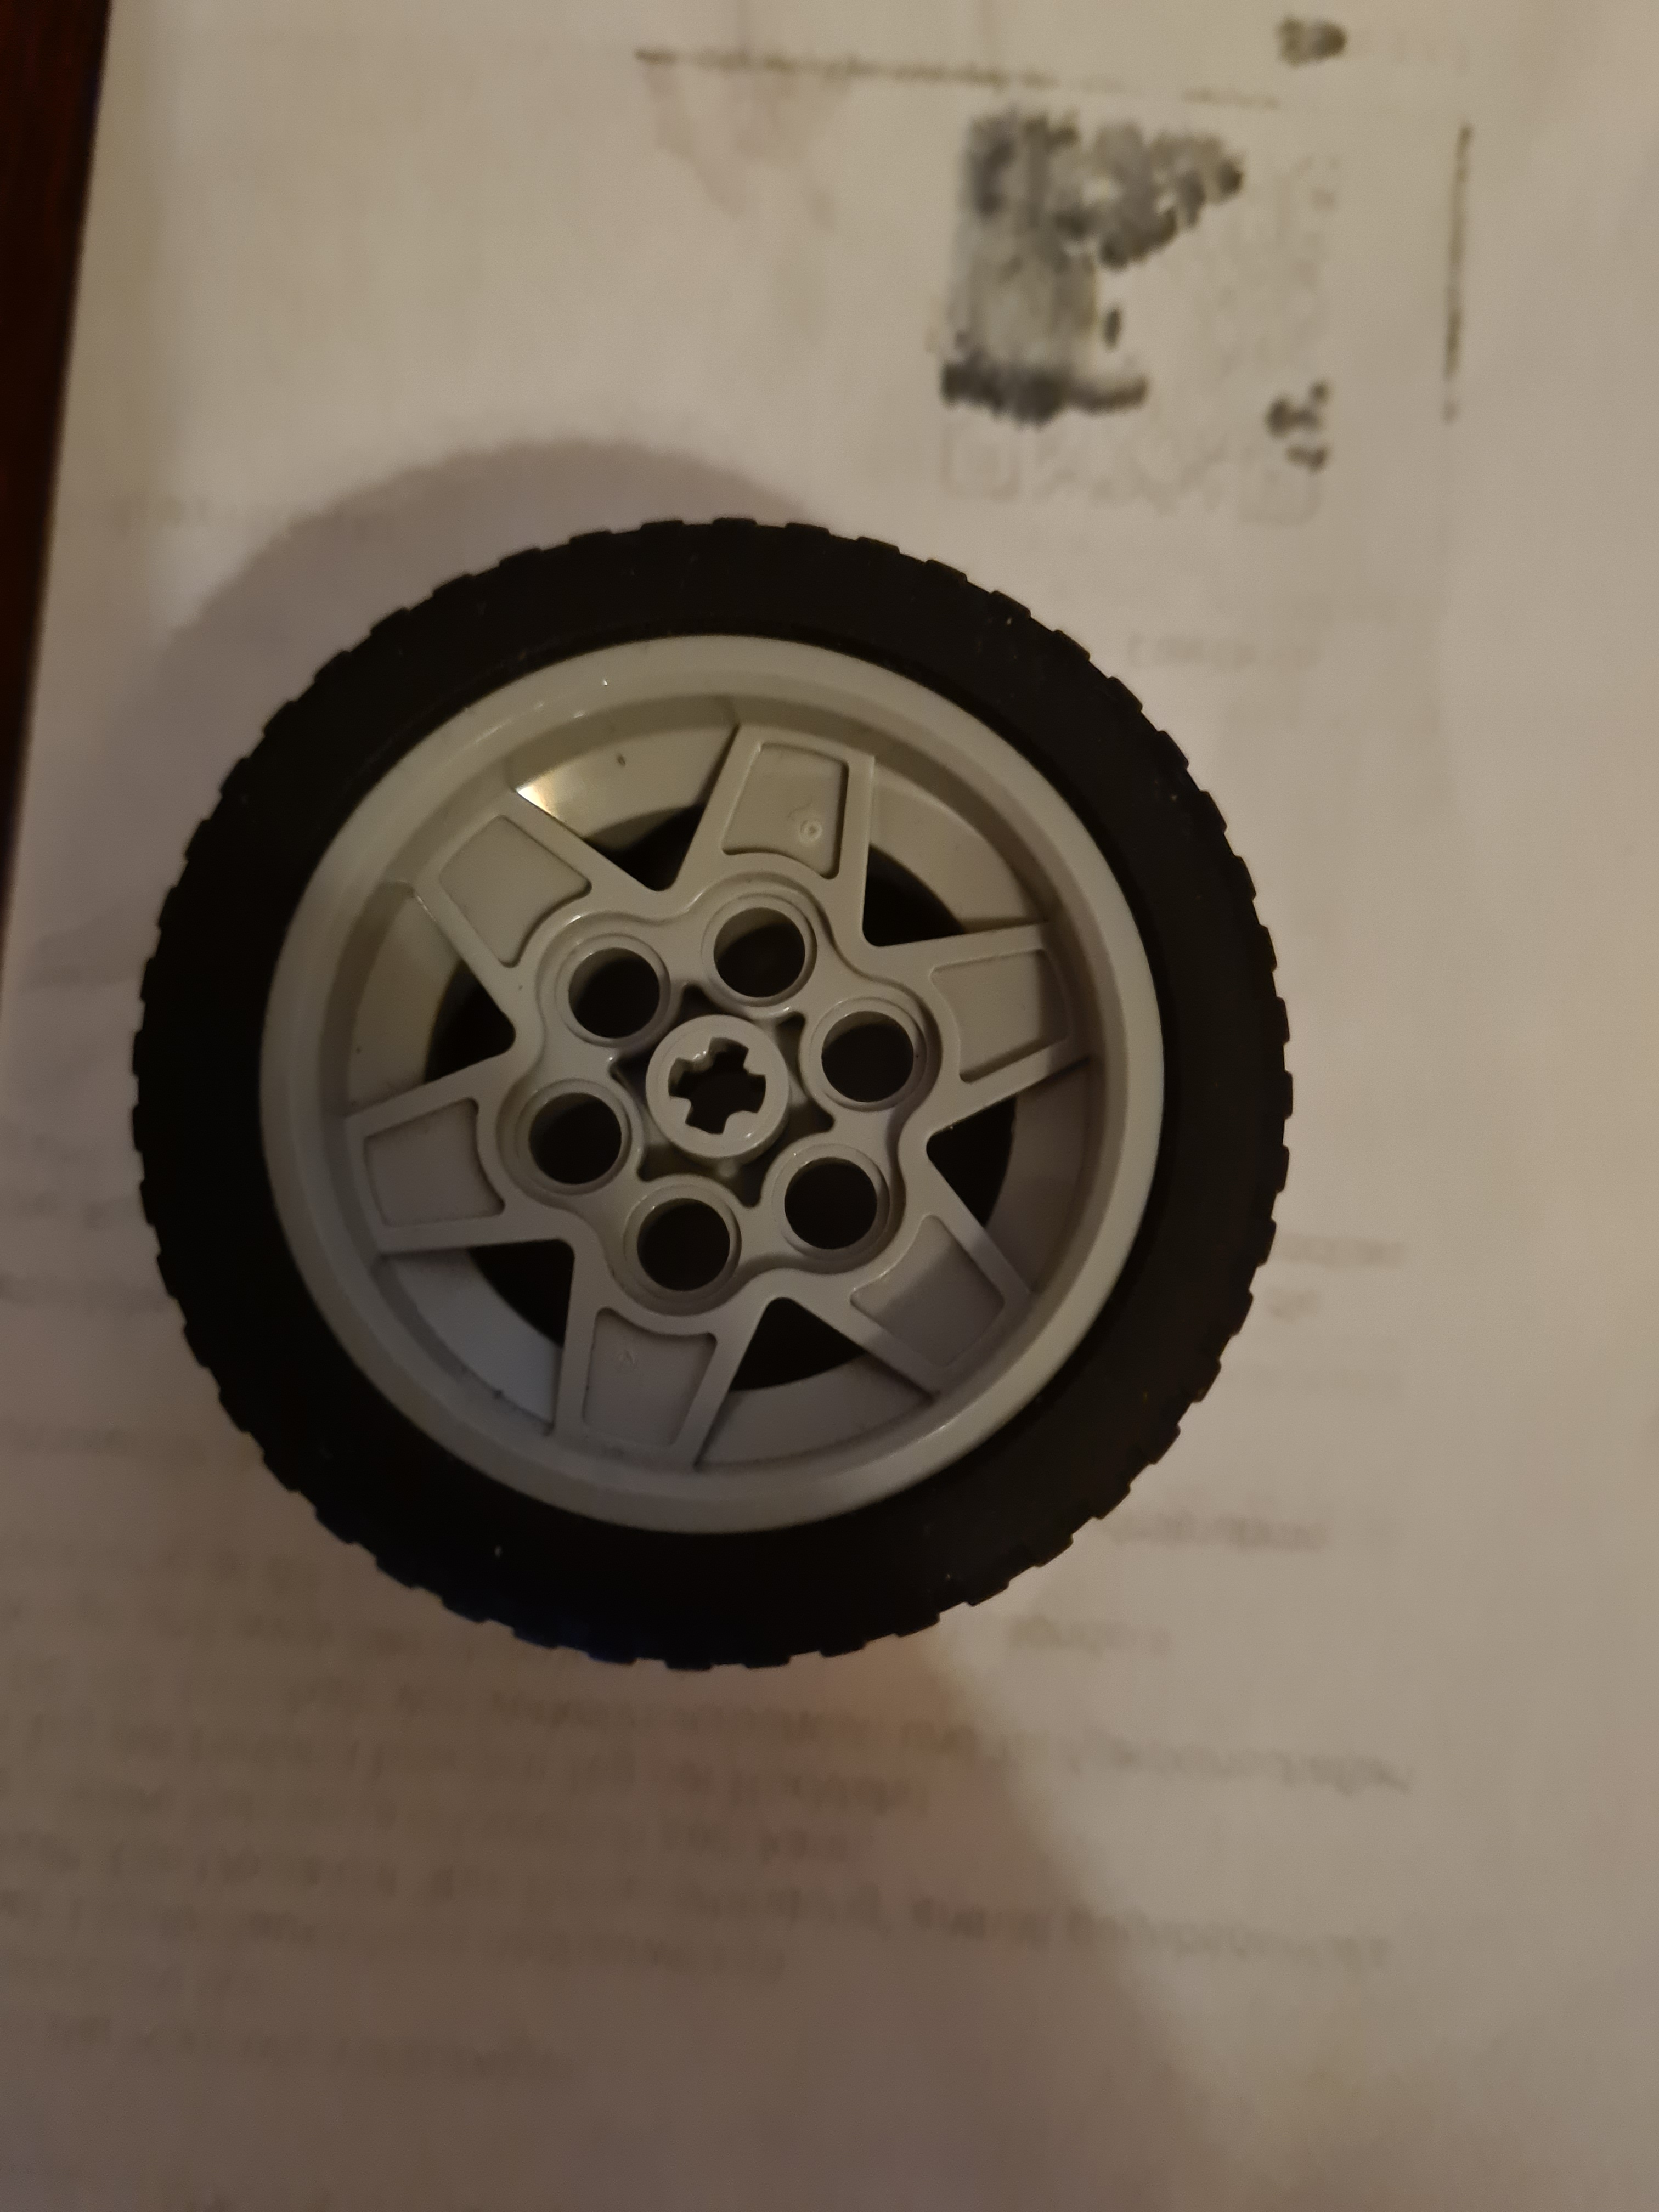Rad: (110, 498, 1319, 1695)
